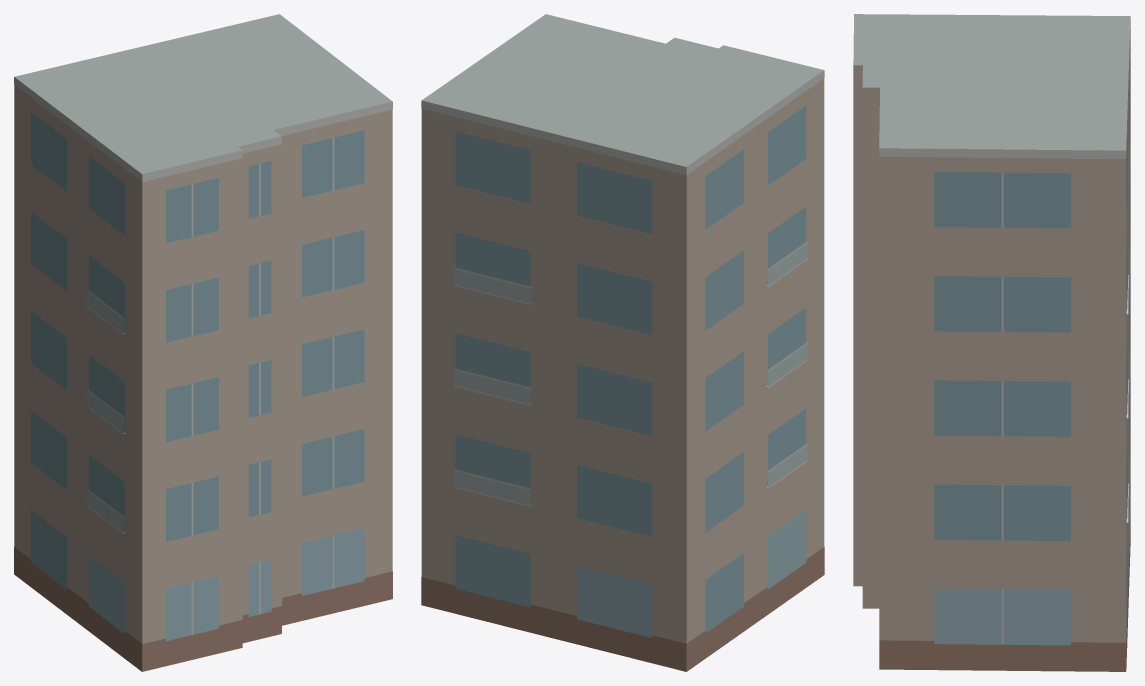
File: survey-upis-32716085.glb
3 views of the same model, side by side, from view 1: azimuth 30°, elevation 25°; view 2: azimuth 150°, elevation 25°; view 3: azimuth 270°, elevation 25° (orthographic). The views are drawn at different scales.
Parts seen in each view (by area): view 1: survey-upis-32716085.tmp; view 2: survey-upis-32716085.tmp; view 3: survey-upis-32716085.tmp.
Boxes of the visible parts, <box> form: survey-upis-32716085.tmp: <box>14,14,392,671</box>; survey-upis-32716085.tmp: <box>421,14,824,671</box>; survey-upis-32716085.tmp: <box>853,14,1130,671</box>.
Size of the model in its own units: 8.57 by 15.2 by 7.34.
